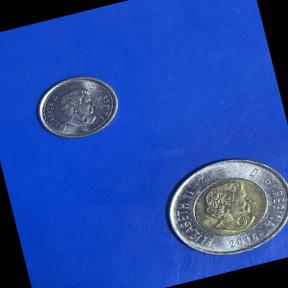Canada-10cent-B: (26, 62, 130, 154)
Canada-2Dollar-B: (148, 139, 288, 276)
